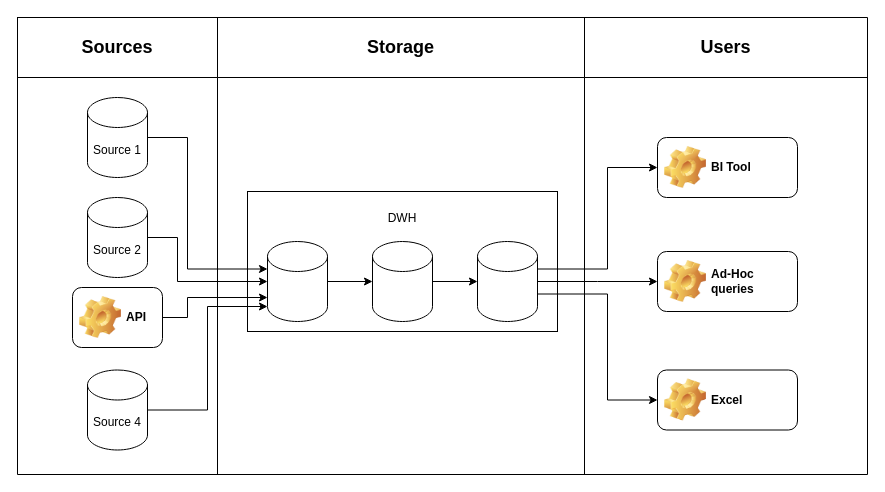
This 885x492 diagram has some shape labels left out. Here are the shapes that lost their labels. From the top down, the centre of each, then its label:
the point at 297,281: STAGE
the point at 402,281: ODS
the point at 507,281: DM
